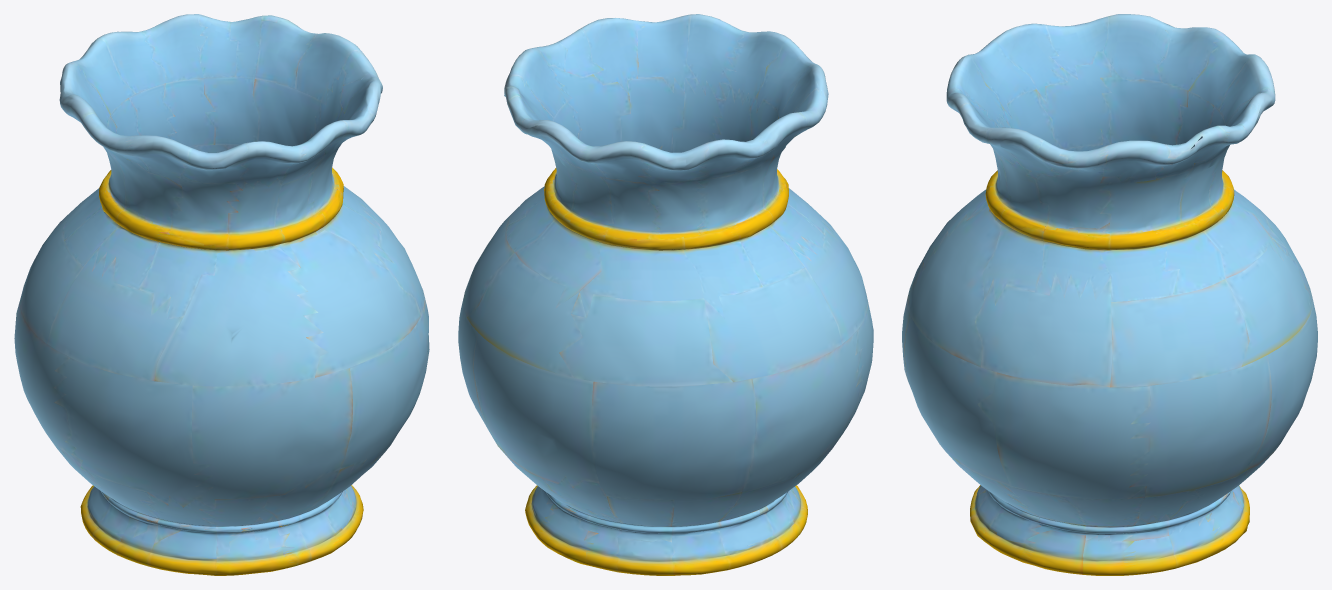
The model's file is vase_fluted.glb.
3 renders of one model, left to right at view 1: azimuth 30°, elevation 25°; view 2: azimuth 150°, elevation 25°; view 3: azimuth 270°, elevation 25°, orthographic.
Parts seen in each view (by area): view 1: geometry_0; view 2: geometry_0; view 3: geometry_0.
Part boxes in pixels (x1,y1,x2,y2): geometry_0: (14, 14, 429, 575); geometry_0: (458, 14, 873, 575); geometry_0: (902, 14, 1317, 575).
Bounding box in the file's own units: 0.8145 × 0.9512 × 0.813.
1 material, 1 textured.
